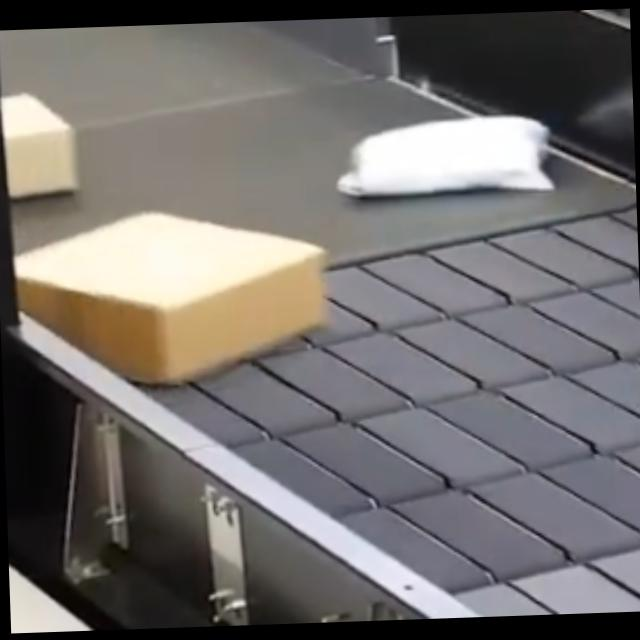box: (0, 205, 331, 394)
mailer: (323, 112, 548, 210)
